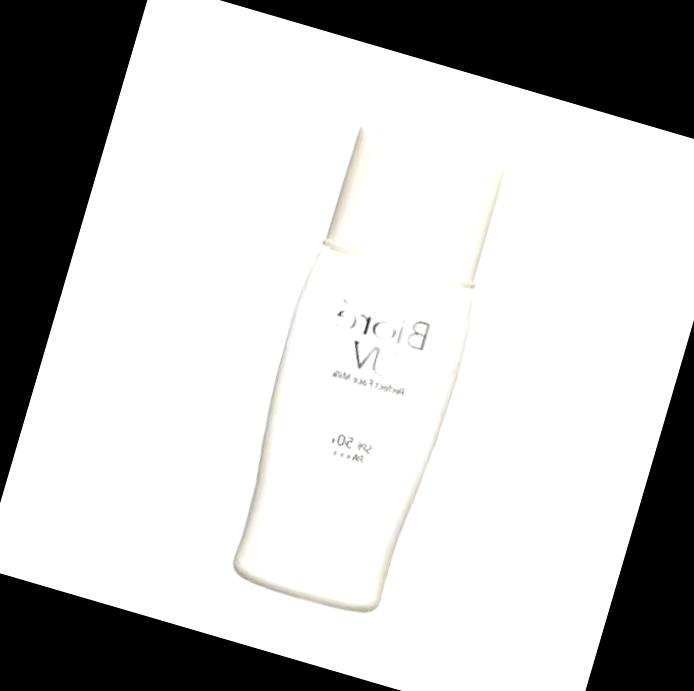cosmetic: (215, 116, 514, 622)
